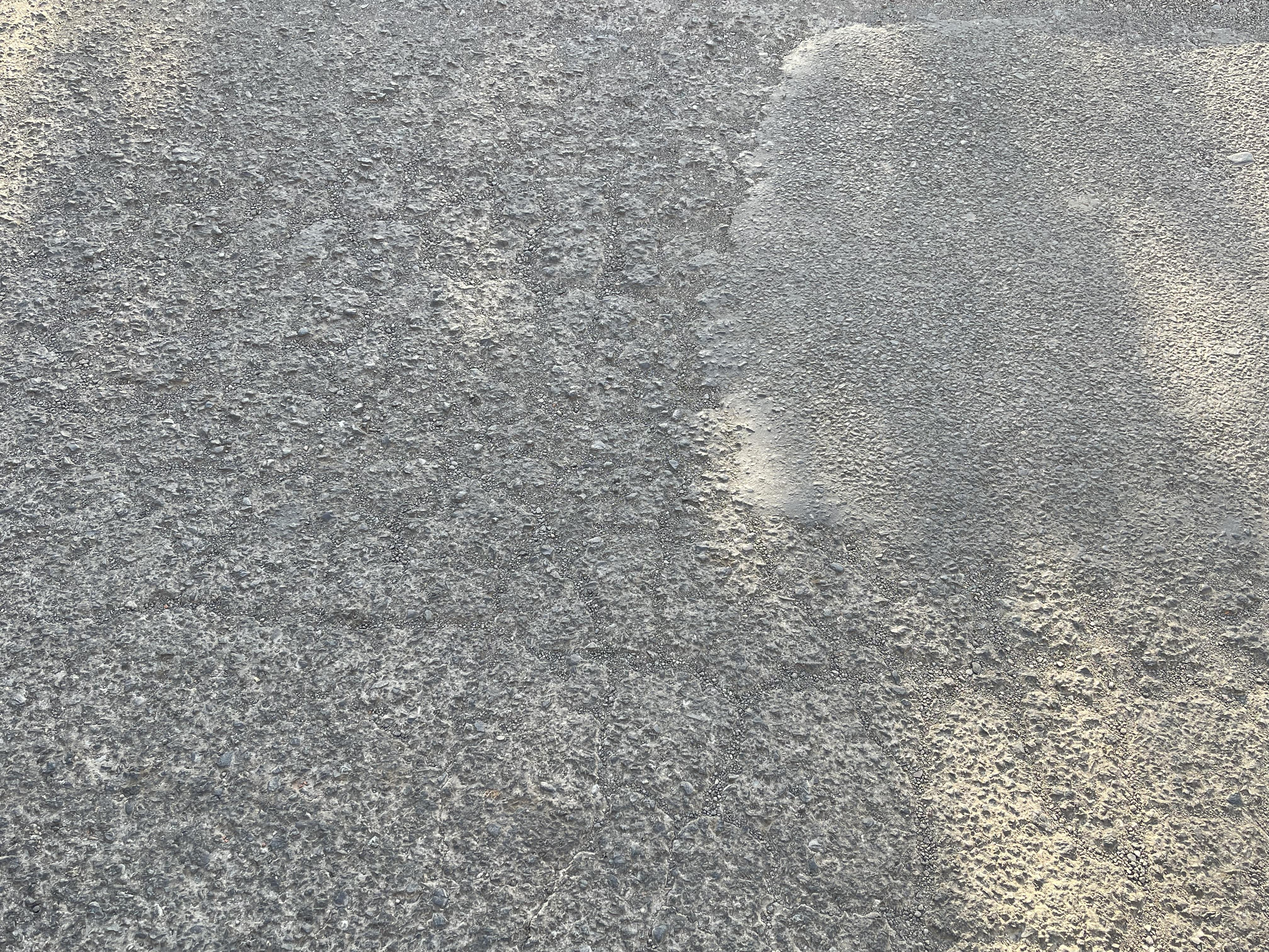PARCHE: (722, 24, 1269, 578)
PIEL DE COCODRILO: (0, 0, 1269, 952)
